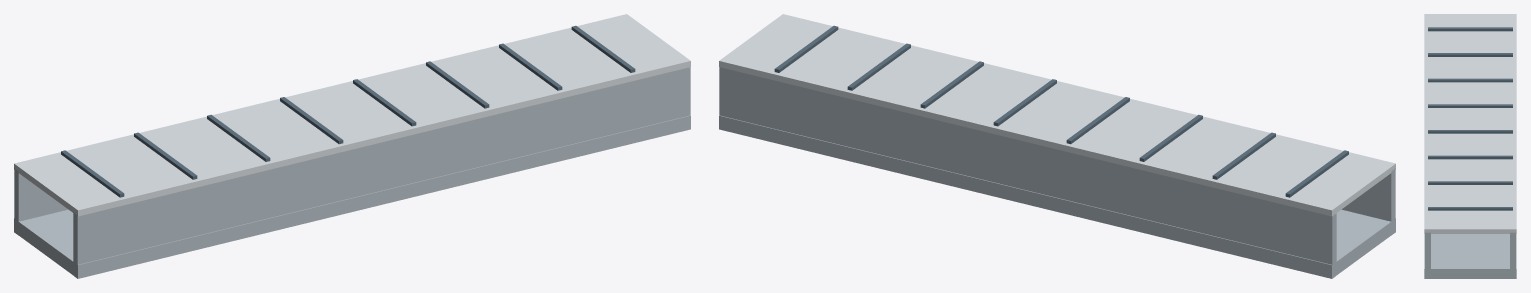
File: wireway.glb
The picture shows the model from 3 angles, left to right: view 1: azimuth 30°, elevation 25°; view 2: azimuth 150°, elevation 25°; view 3: azimuth 270°, elevation 25°; orthographic projection. The views are drawn at different scales.
Visible parts, largest first — view 1: wireway; view 2: wireway; view 3: wireway.
Part boxes in pixels (box(x1,y1,x2,y2)): wireway: box(14, 14, 690, 278); wireway: box(719, 14, 1395, 278); wireway: box(1424, 14, 1516, 278).
Bounding box in the file's own units: 2.1 × 0.2355 × 0.38.
